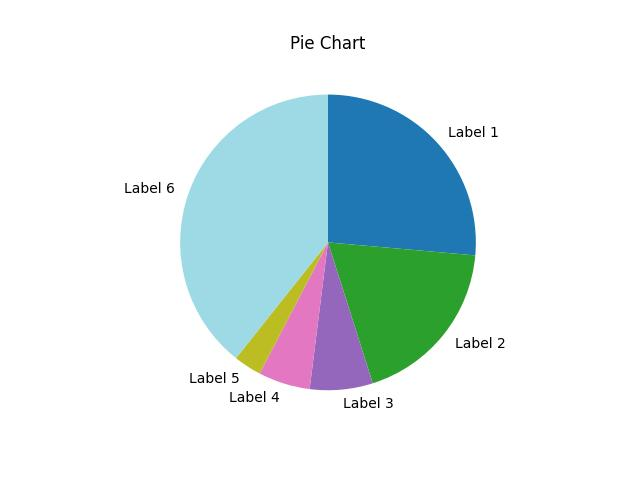sector: (181, 94, 329, 358), (329, 93, 477, 255), (329, 240, 475, 383), (236, 241, 326, 373), (262, 243, 331, 388), (311, 241, 372, 390)
